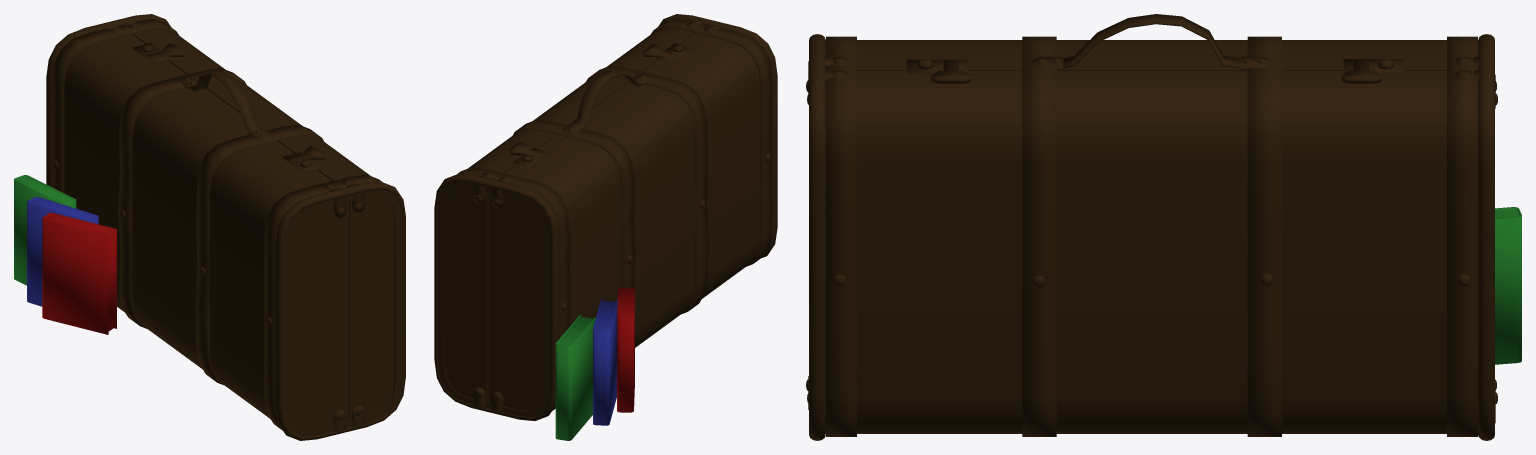
File: чемодан экспорт.fbx
3 views of the same model, side by side, from view 1: azimuth 30°, elevation 25°; view 2: azimuth 150°, elevation 25°; view 3: azimuth 270°, elevation 25° (orthographic). The views are drawn at different scales.
Visible parts, largest first — view 1: Box021, чем эксп, Box020, Object014, Box023, Line008, Object015, Object016, Line009, Box022, Plane004, Cylinder044 (+1 smaller); view 2: Box021, чем эксп, Box020, Box023, Object016, Line008, Object015, Object014, Line009, Box022, Plane004, Cylinder044 (+1 smaller); view 3: Box023, Box022, Box021, Line009, Object016, Box020, Plane004, Line008.
Boxes of the visible parts, x1,y1,x2,y2 form: Box021: (64, 34, 349, 436); чем эксп: (289, 195, 394, 430); Box020: (51, 25, 343, 430); Object014: (42, 212, 116, 334); Box023: (132, 28, 402, 427); Line008: (46, 20, 349, 440); Object015: (27, 196, 98, 306); Object016: (14, 175, 76, 285); Line009: (117, 14, 405, 431); Box022: (121, 19, 381, 187); Plane004: (189, 70, 261, 131); Cylinder044: (352, 191, 365, 427); Box021: (488, 33, 760, 416); чем эксп: (444, 187, 545, 411); Box020: (494, 24, 772, 410); Box023: (438, 28, 695, 407); Object016: (555, 314, 595, 440); Line008: (487, 20, 777, 420); Object015: (593, 299, 617, 425); Object014: (617, 286, 634, 412); Line009: (434, 14, 709, 411); Box022: (457, 18, 705, 179); Plane004: (572, 70, 641, 126); Cylinder044: (473, 183, 485, 408); Box023: (825, 71, 1446, 433); Box022: (826, 68, 1478, 436); Box021: (825, 40, 1478, 70); Line009: (809, 65, 1494, 440); Object016: (1495, 207, 1521, 364); Box020: (826, 36, 1477, 68); Plane004: (1063, 14, 1240, 68); Line008: (809, 34, 1494, 69).
Size of what is drawn, in the model's own units: 378 by 576 by 942.
